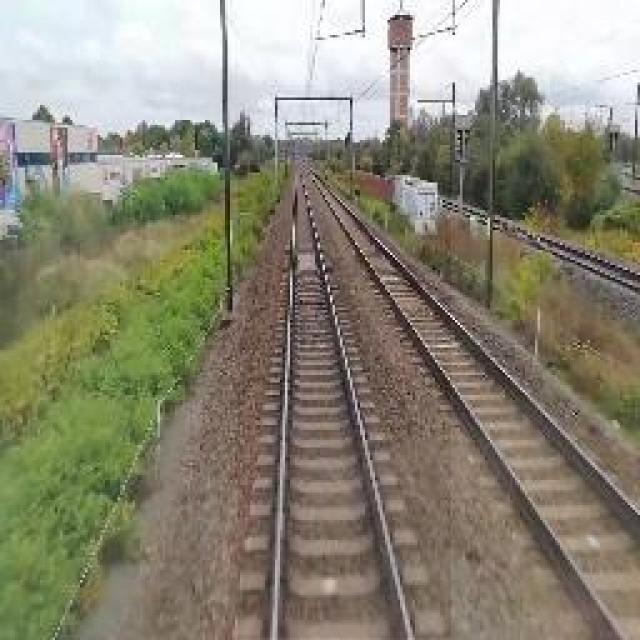rail: (240, 167, 452, 639)
